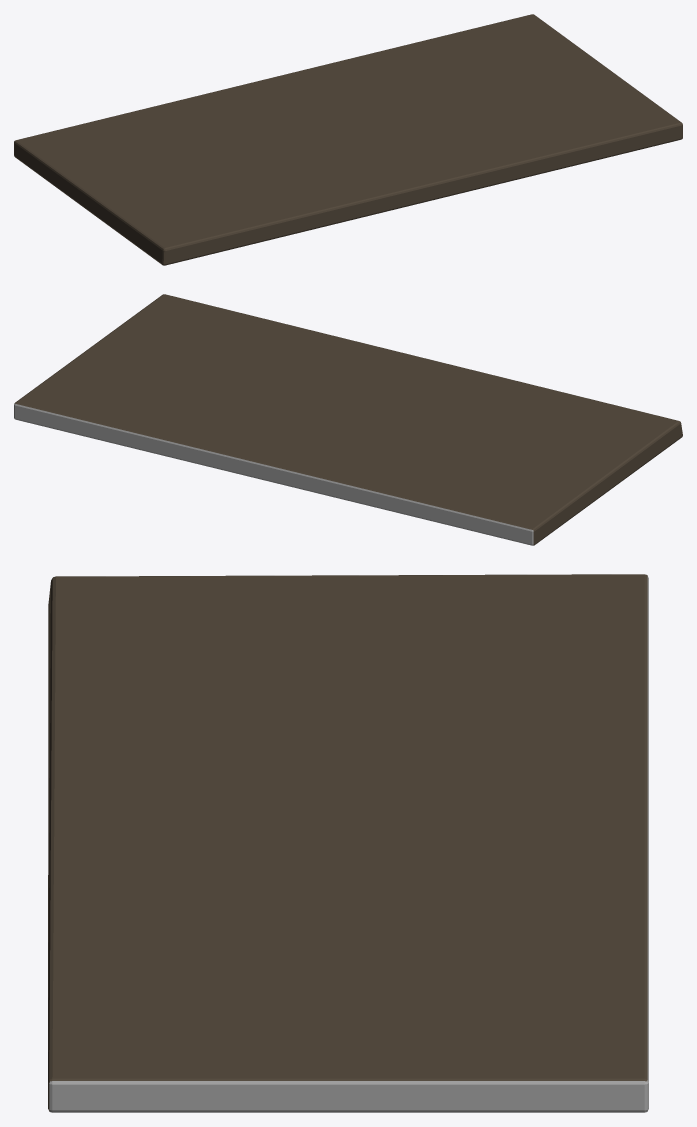
The model's file is floor_2x1_damaged.glb.
The picture shows the model from 3 angles, top to bottom: view 1: azimuth 30°, elevation 25°; view 2: azimuth 150°, elevation 25°; view 3: azimuth 270°, elevation 25°; orthographic projection. The views are drawn at different scales.
Parts seen in each view (by area): view 1: Visual_floor_2x1_Plate; view 2: Visual_floor_2x1_Plate; view 3: Visual_floor_2x1_Plate.
Boxes of the visible parts, x1,y1,x2,y2 form: Visual_floor_2x1_Plate: [14, 14, 682, 265]; Visual_floor_2x1_Plate: [14, 294, 682, 545]; Visual_floor_2x1_Plate: [48, 574, 648, 1112].
Bounding box in the file's own units: 8 × 0.25 × 4.
